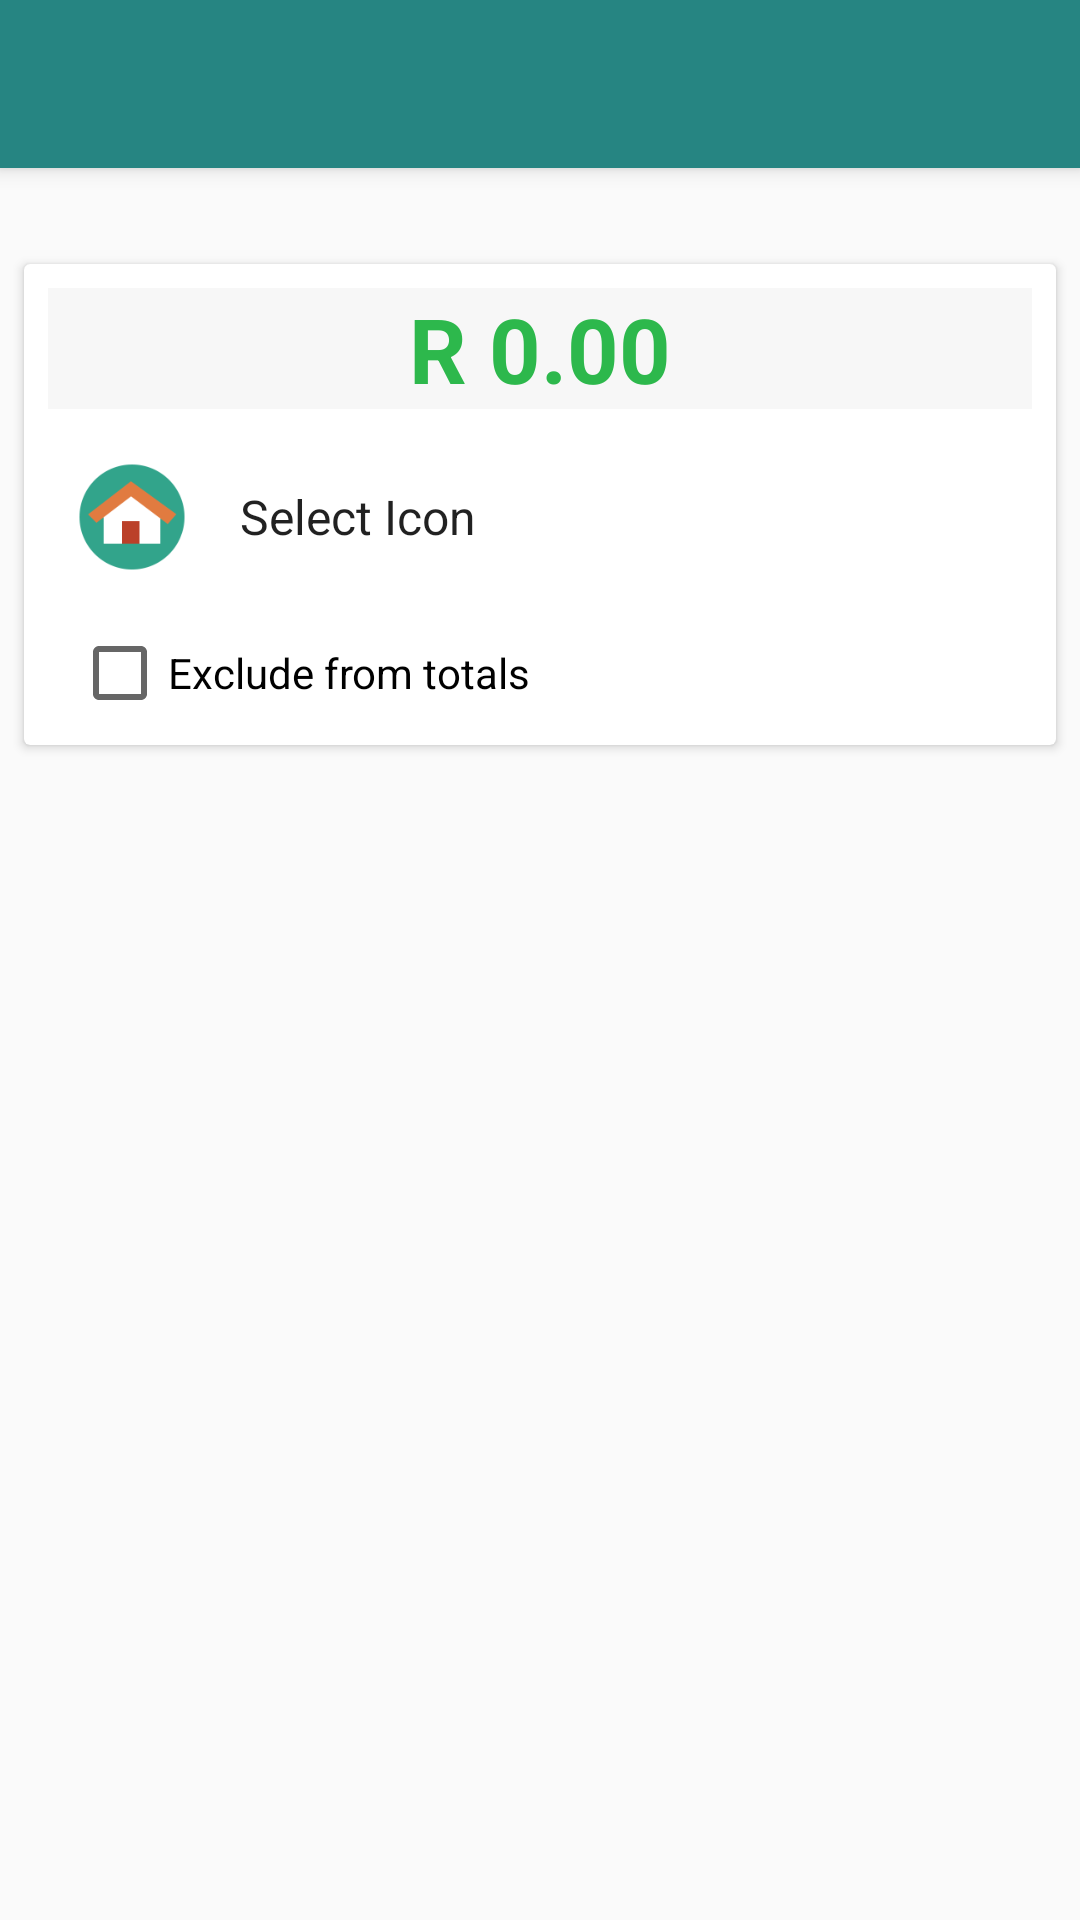

Point at icon controls on the screen. Image size 1080px x 1920px, points as (x,y).
category family: (132,517)
